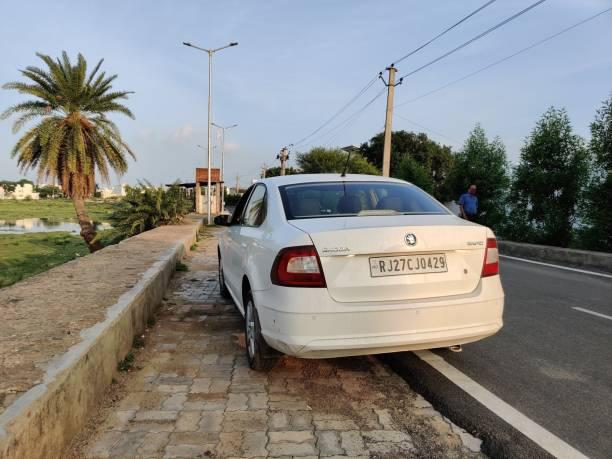skoda: (399, 230, 424, 250)
